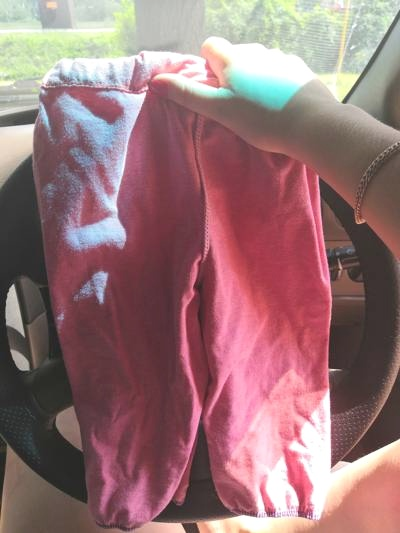Pants: (35, 42, 335, 527)
